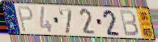2: (101, 7, 123, 37), (79, 8, 97, 36)
4: (39, 6, 54, 34)
7: (58, 6, 74, 35)
B: (119, 9, 140, 38)
P: (16, 6, 35, 34)
